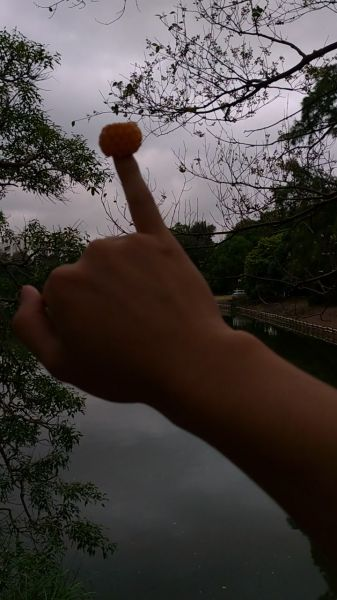eggs: (100, 121, 141, 155)
